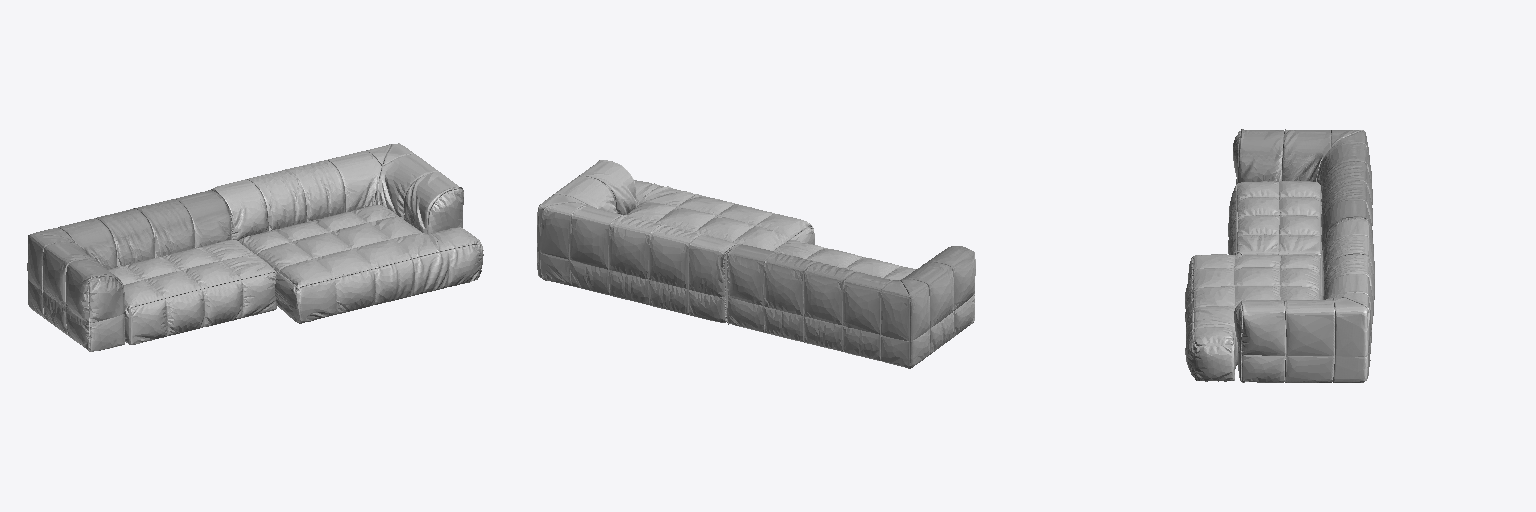
The picture shows the model from 3 angles: view 1: azimuth 30°, elevation 25°; view 2: azimuth 150°, elevation 25°; view 3: azimuth 270°, elevation 25°; orthographic projection.
Parts seen in each view (by area): view 1: solid_001; view 2: solid_001; view 3: solid_001.
Part boxes in pixels (x1,y1,x2,y2): solid_001: (27, 143, 483, 351); solid_001: (537, 160, 975, 368); solid_001: (1185, 129, 1374, 382).
Bounding box in the file's own units: 3.3 × 0.6343 × 1.41.
Materials: 1 (1 with a texture image).